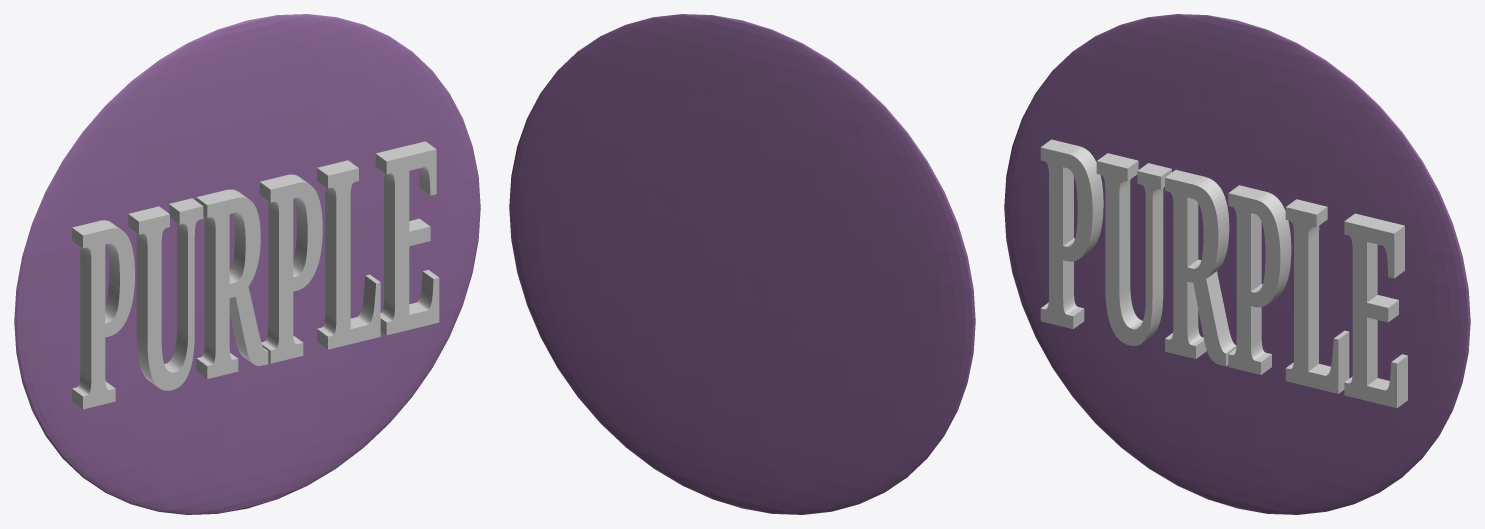
File: purple button.glb
3 renders of one model, left to right at view 1: azimuth 30°, elevation 25°; view 2: azimuth 150°, elevation 25°; view 3: azimuth 330°, elevation 25°, orthographic.
Parts seen in each view (by area): view 1: Mesh_Mesh_head_geo.001_lambert2SG.001; view 2: Mesh_Mesh_head_geo.001_lambert2SG.001; view 3: Mesh_Mesh_head_geo.001_lambert2SG.001.
Boxes of the visible parts, bbox=[...] form: Mesh_Mesh_head_geo.001_lambert2SG.001: bbox=[14, 14, 480, 514]; Mesh_Mesh_head_geo.001_lambert2SG.001: bbox=[509, 14, 975, 514]; Mesh_Mesh_head_geo.001_lambert2SG.001: bbox=[1004, 14, 1470, 514].
Bounding box in the file's own units: 25 × 25 × 2.
